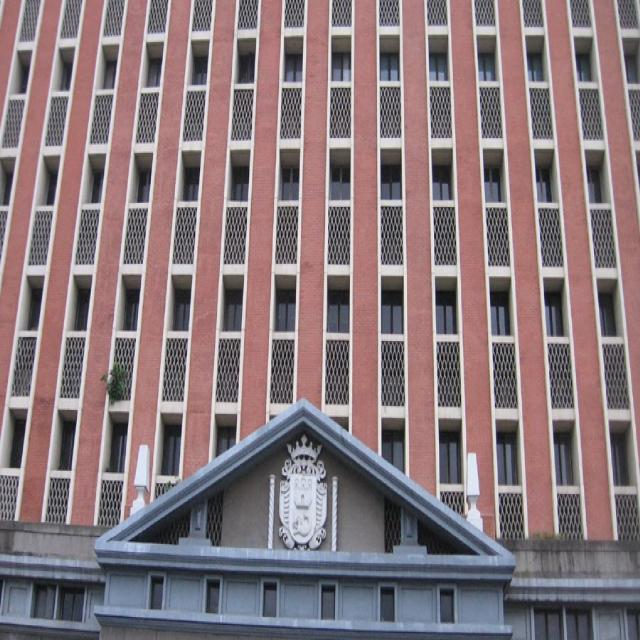Palacio de Gobernador: (1, 0, 639, 640)
